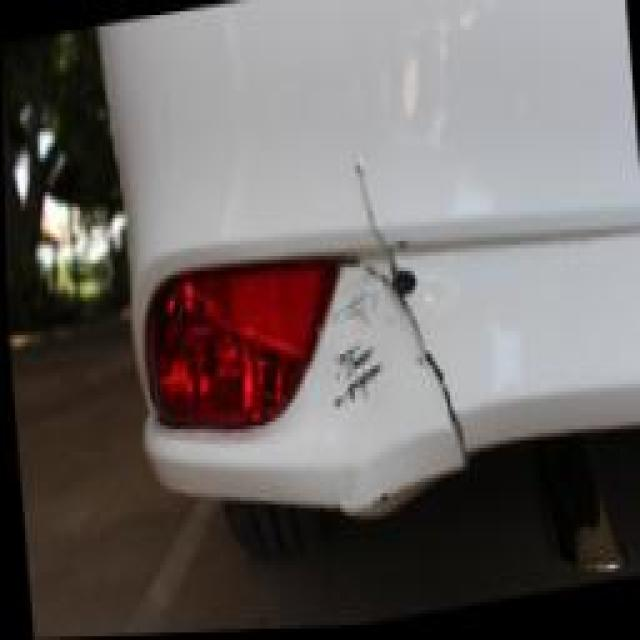Bumper: (300, 120, 475, 525)
